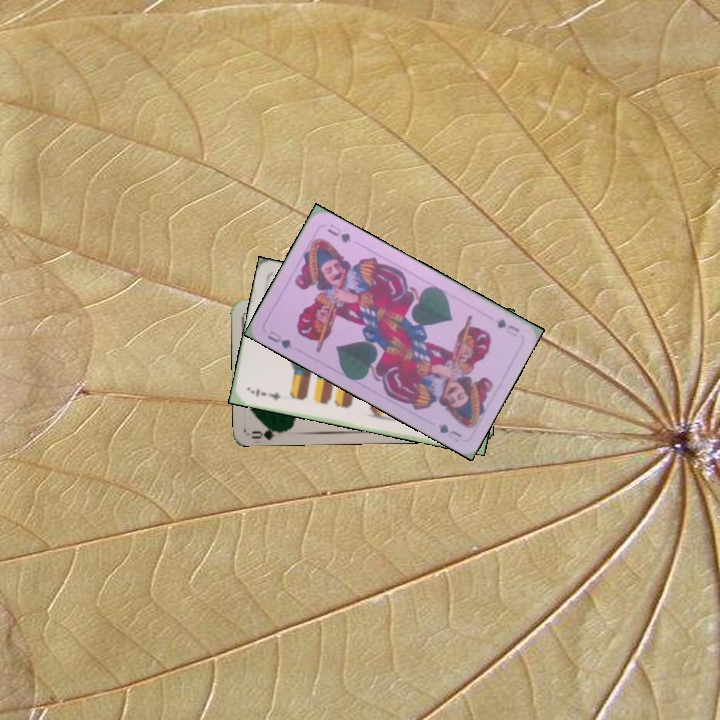E7: (247, 385, 283, 403)
GO: (248, 421, 288, 441)
GU: (492, 314, 522, 340), (264, 326, 294, 351)
